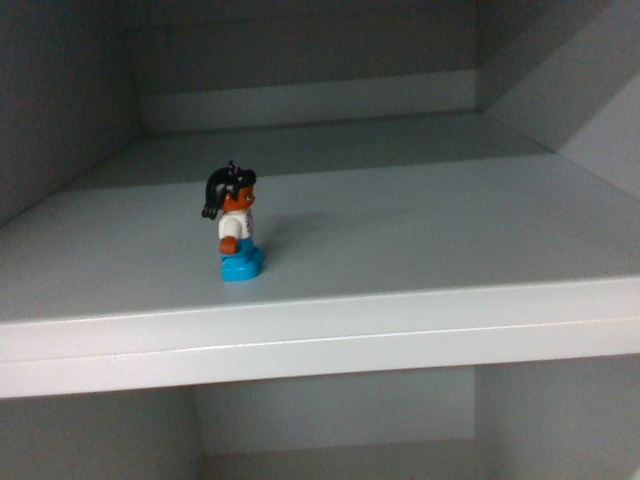people: (198, 164, 270, 286)
